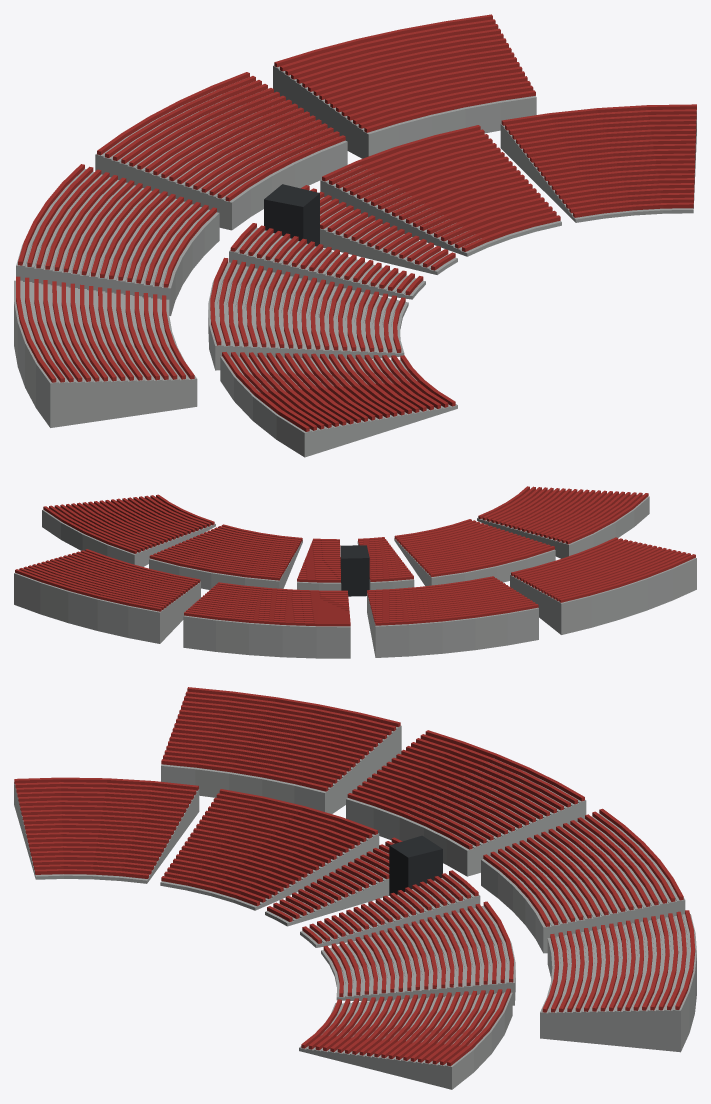
File: cota_amphitheatre.glb
3 renders of one model, top to bottom at view 1: azimuth 30°, elevation 25°; view 2: azimuth 150°, elevation 25°; view 3: azimuth 270°, elevation 25°, orthographic. The views are drawn at different scales.
Visible parts, largest first — view 1: austin-amphitheatre; view 2: austin-amphitheatre; view 3: austin-amphitheatre.
Part boxes in pixels (x1=…): austin-amphitheatre: x1=14, y1=14, x2=696, y2=457; austin-amphitheatre: x1=14, y1=486, x2=696, y2=658; austin-amphitheatre: x1=14, y1=687, x2=696, y2=1089.
Bounding box in the file's own units: 94.59 × 6.2 × 76.24.
